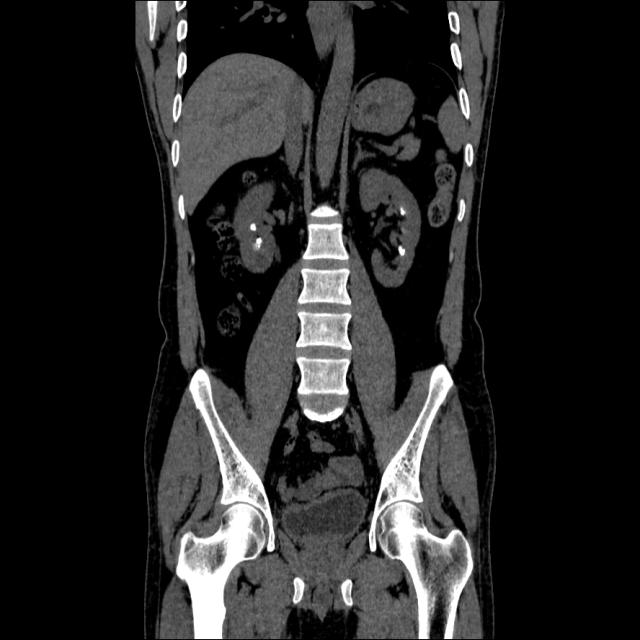kidneystone: (255, 236, 262, 248), (399, 245, 405, 256), (400, 207, 406, 215), (250, 218, 254, 223)
